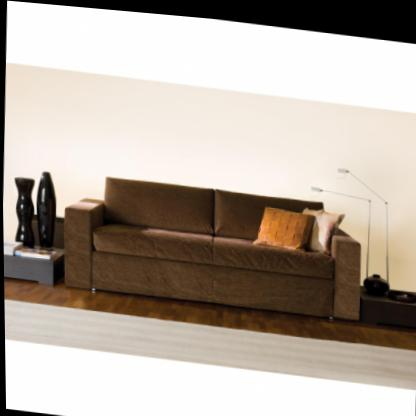Sofa: (61, 168, 364, 316)
